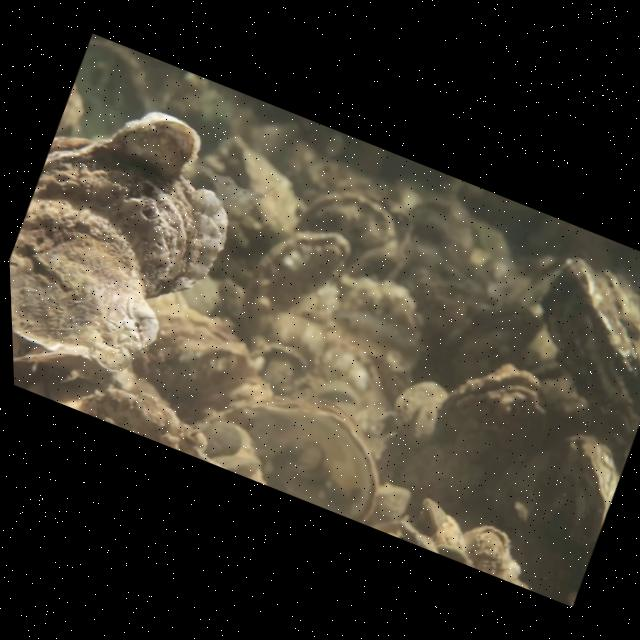Oyster-Closed: (34, 97, 231, 298), (531, 251, 640, 434), (240, 218, 361, 320), (554, 416, 619, 569), (144, 315, 268, 390), (77, 385, 207, 454), (414, 495, 465, 553)
Oyster-Indeterminate: (10, 194, 165, 385), (232, 390, 385, 521), (292, 181, 400, 260)
Oyster-Open: (430, 357, 553, 464), (459, 524, 514, 573)
